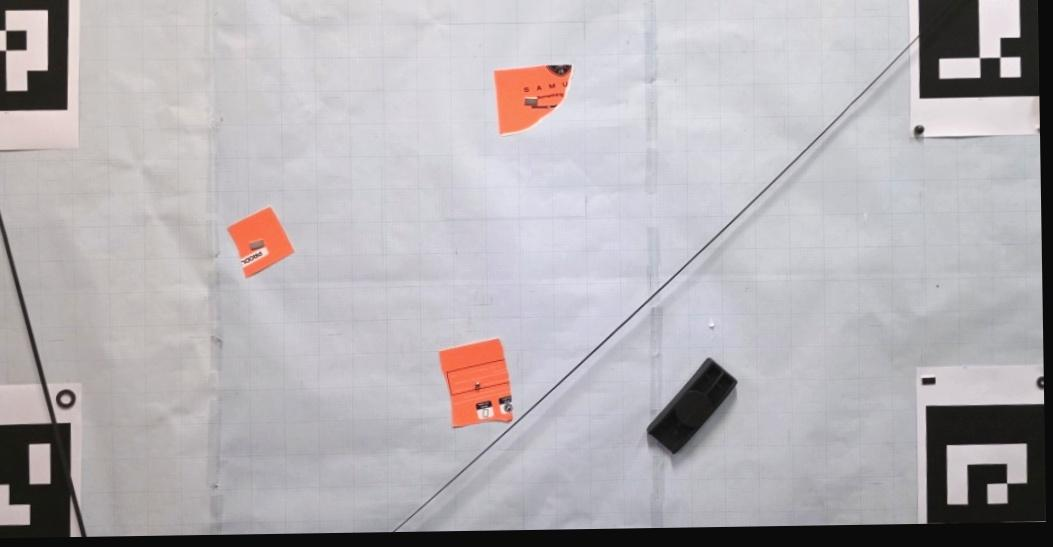obstacle: (648, 358, 738, 455), (439, 337, 514, 429), (495, 65, 573, 134), (227, 207, 294, 279)
